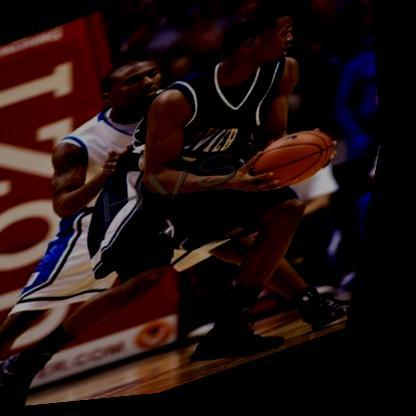basketball: (249, 126, 351, 205)
